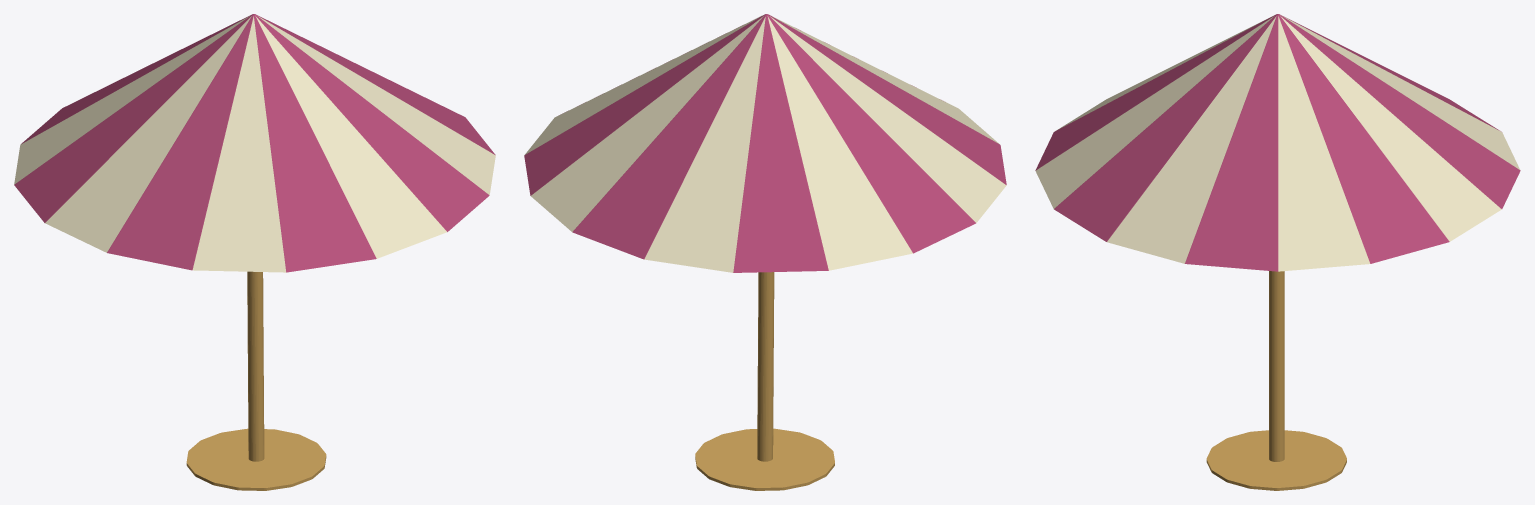
File: zont_2.fbx
3 renders of one model, left to right at view 1: azimuth 30°, elevation 25°; view 2: azimuth 150°, elevation 25°; view 3: azimuth 270°, elevation 25°, orthographic.
Visible parts, largest first — view 1: Cylinder.015; view 2: Cylinder.015; view 3: Cylinder.015.
Boxes of the visible parts, x1,y1,x2,y2 form: Cylinder.015: (14,14,495,490); Cylinder.015: (524,14,1006,490); Cylinder.015: (1035,14,1520,490).
Size of the model in its own units: 77.99 by 79.31 by 77.99.
